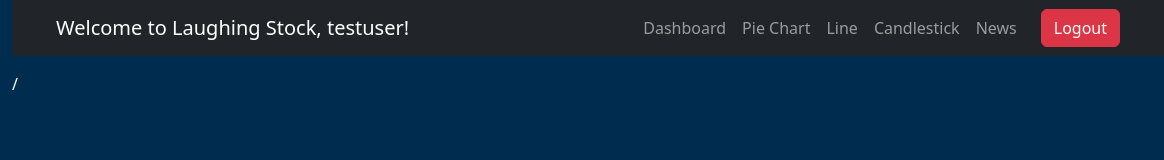
Test: navigation tests › navigates to the piechart page when piechart link is clicked
Click the link "Pie Chart": {"x": 776, "y": 28} [742,17,810,39]
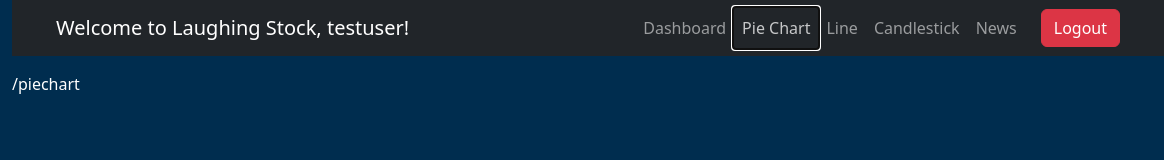
Now the text with test id "location-display" reads "/piechart", box [12,73,80,95]
